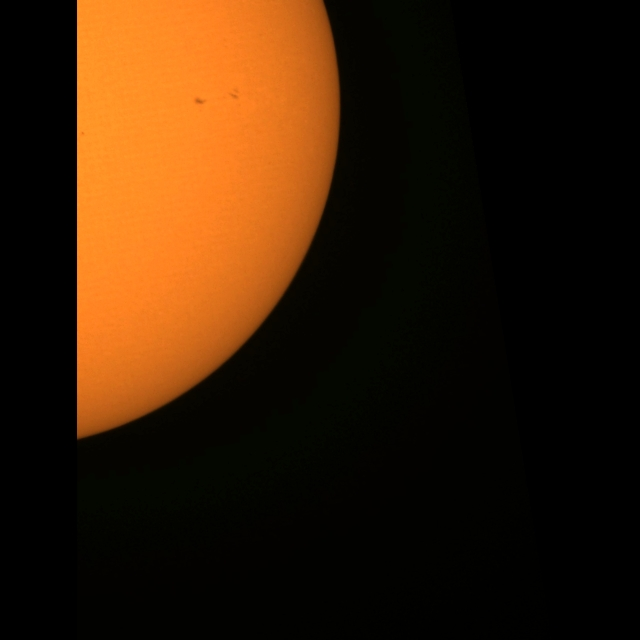sunspot: (227, 87, 241, 102), (193, 96, 208, 106), (79, 130, 86, 137)
